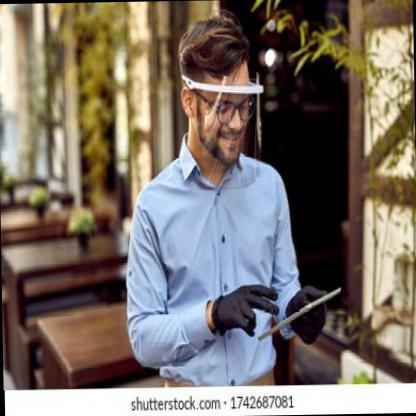Gloves: (209, 283, 281, 339), (283, 284, 330, 346)
